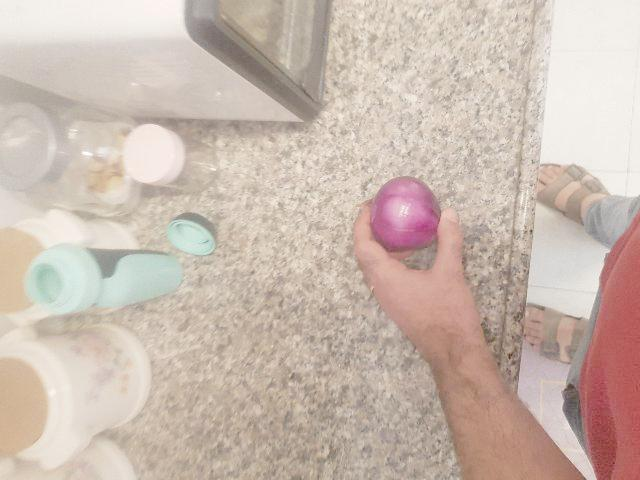onion: (370, 180, 446, 262)
